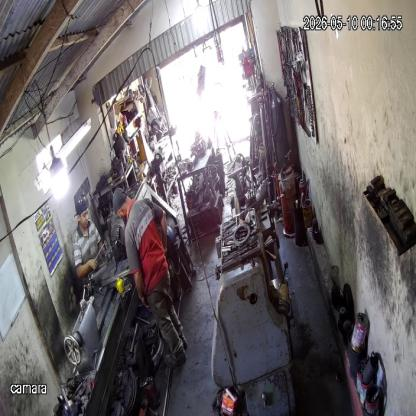sin_lentes: (80, 210, 90, 221)
